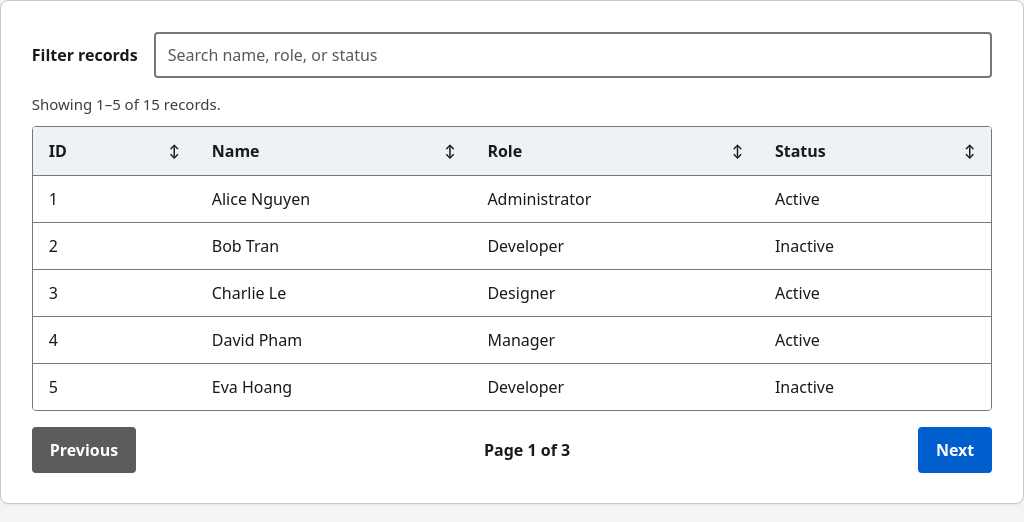
Test: DataGrid › filters across string properties and keeps pagination in sync
The width and height of the screenshot is (1024, 522).
In the search field labelled "Filter records": [573, 55] box [154,32,992,78], type "Developer"
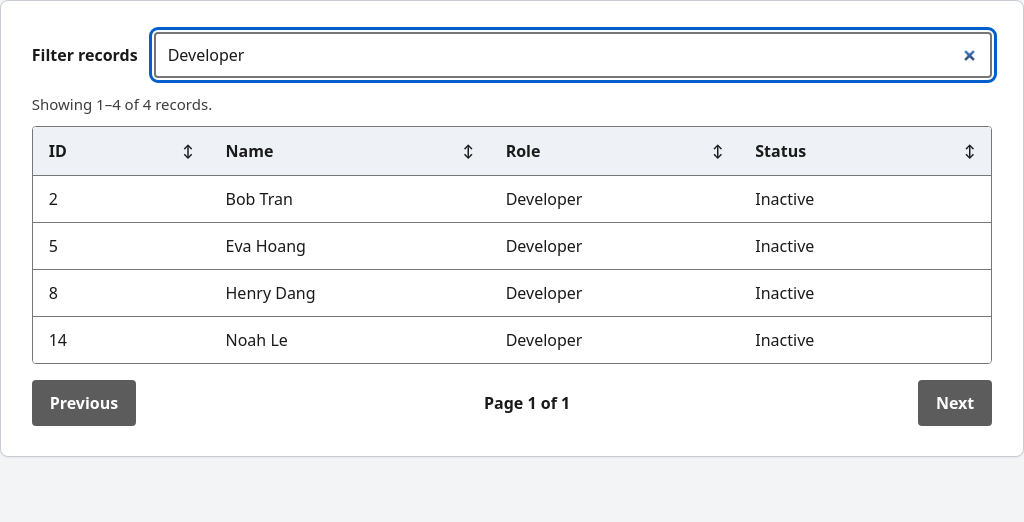
Expected: the number of rows is 5, [33,127,991,175]; [33,175,991,222]; [33,222,991,269]; [33,269,991,316]; [33,316,991,363]
Result: the text "Showing 1–4 of 4 records." is shown at [32,94,212,114]
